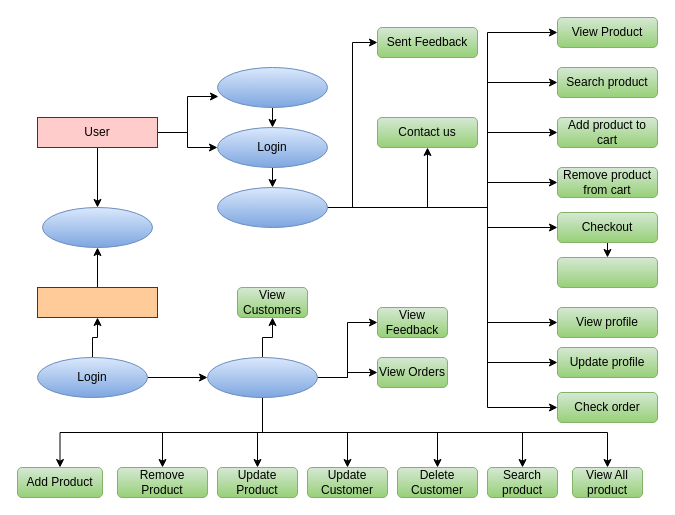
The diagram is 675 pixels wide and 515 high, and some of its shapes have lost their labels. The box of each missing label's shape, as (x1, y1, x2, y2) in pixels:
Admin: (36, 286, 158, 318)
Admin Dashboard/home: (206, 356, 318, 398)
Customer Dashboard/home: (216, 186, 328, 228)
Logout: (42, 206, 152, 248)
Order place: (556, 256, 658, 288)
Register as Customer(Signup): (216, 66, 328, 108)
